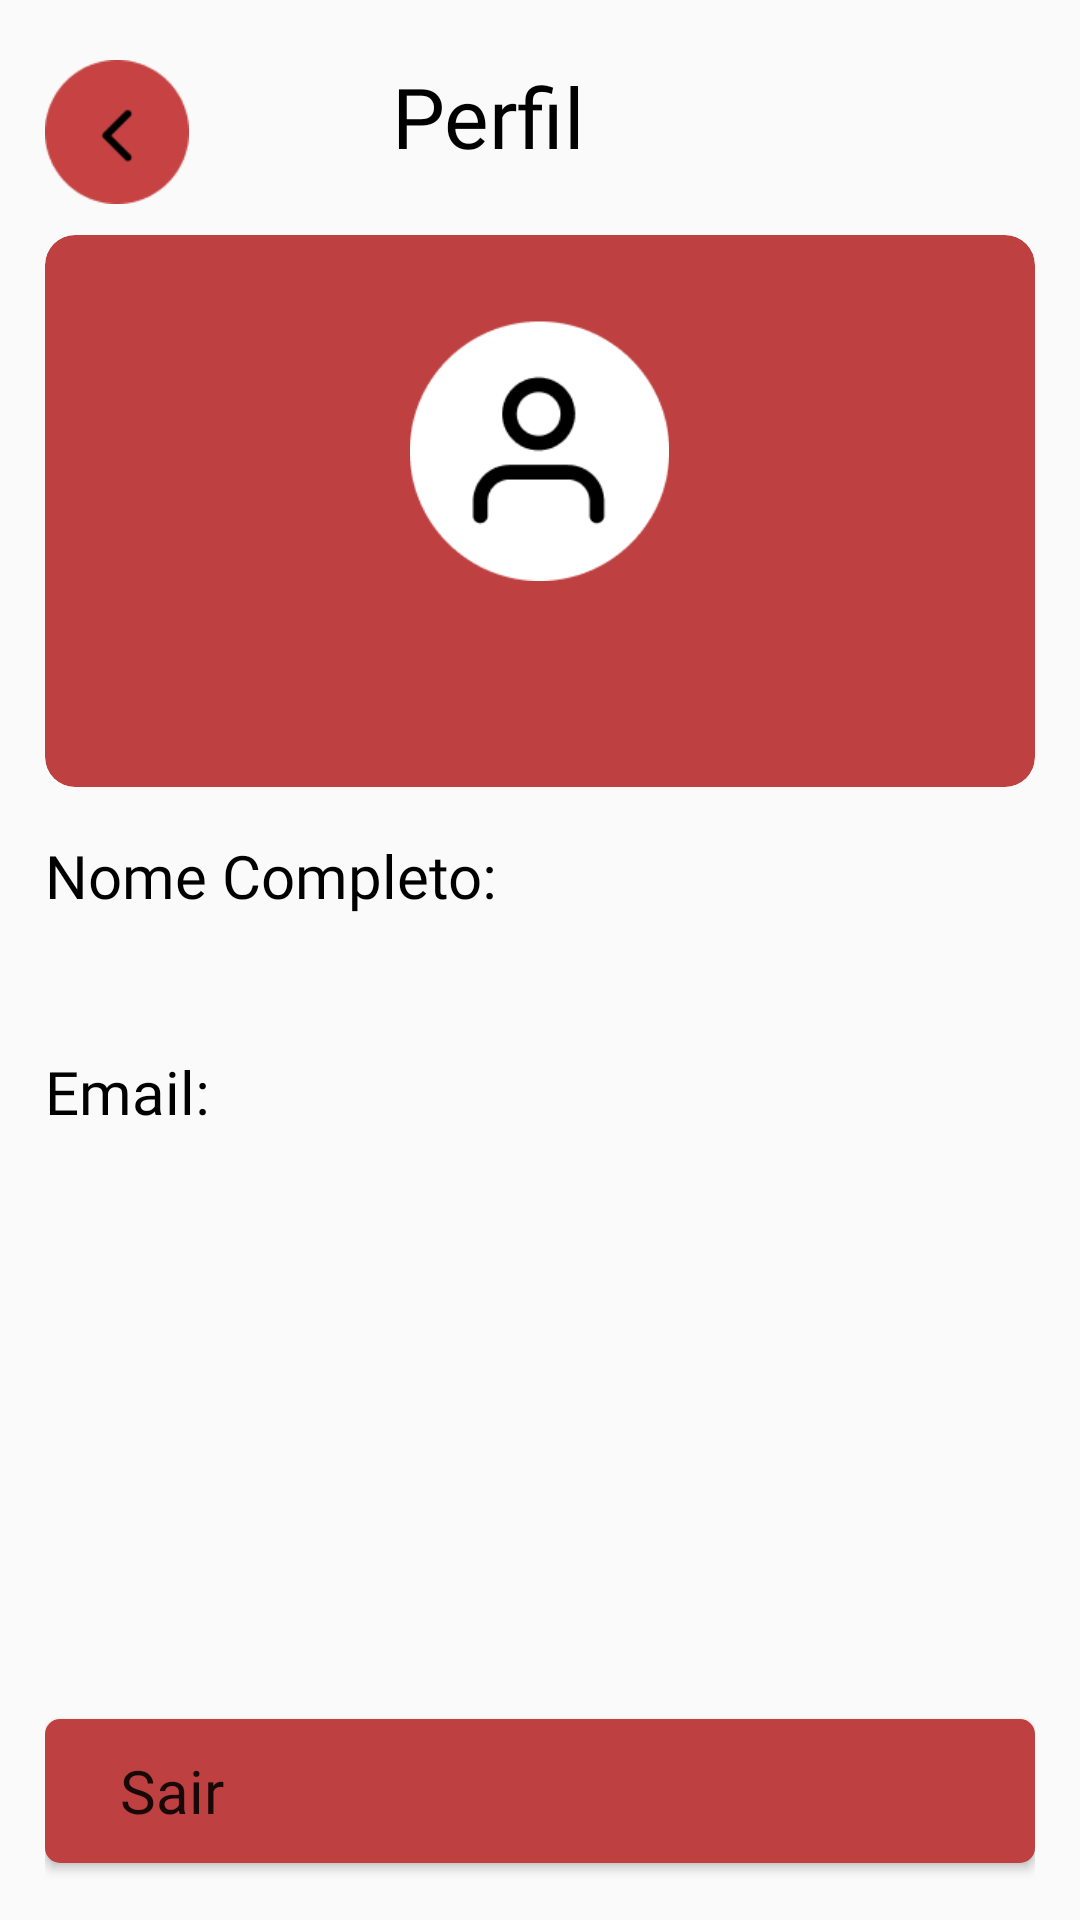

Point at icon controls on the screen. Image size 1080 × 1920, points as point (x, y).
user: point (539, 451)
